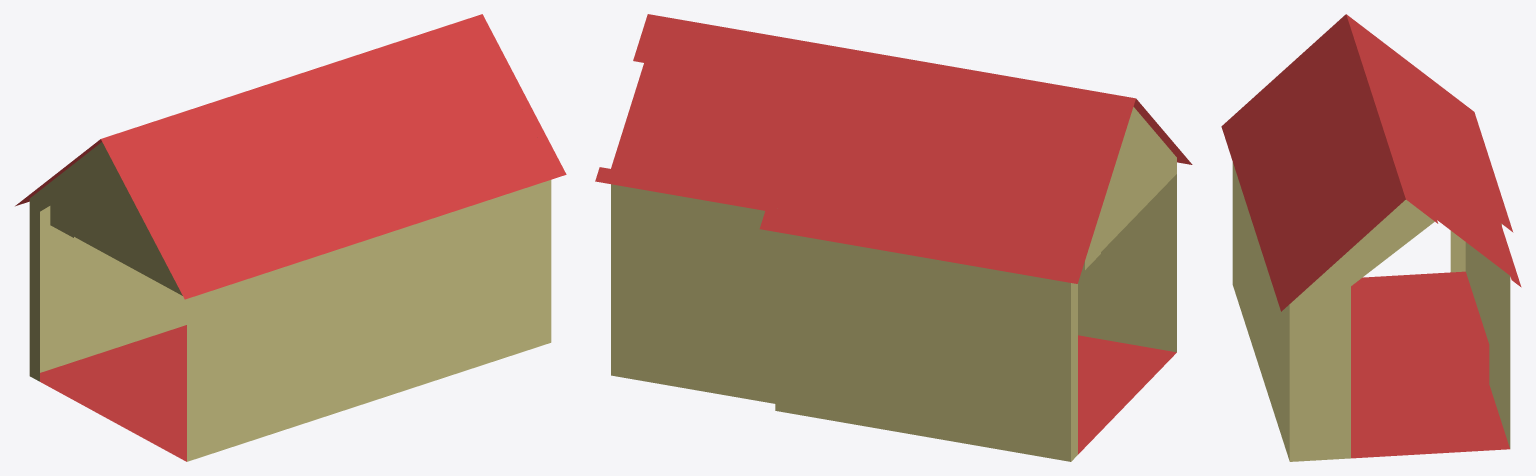
The picture shows the model from 3 angles, left to right: view 1: azimuth 30°, elevation 25°; view 2: azimuth 150°, elevation 25°; view 3: azimuth 270°, elevation 25°; orthographic projection. The views are drawn at different scales.
Size of the model in its own units: 23.43 by 14.86 by 14.21.
